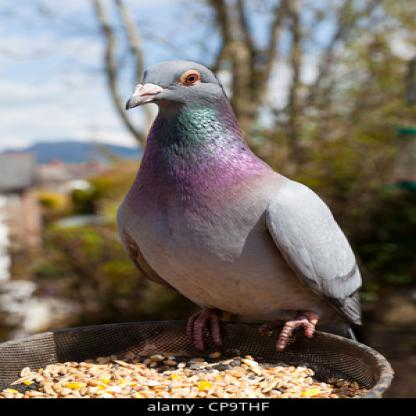Flying Rat: (119, 67, 365, 368)
